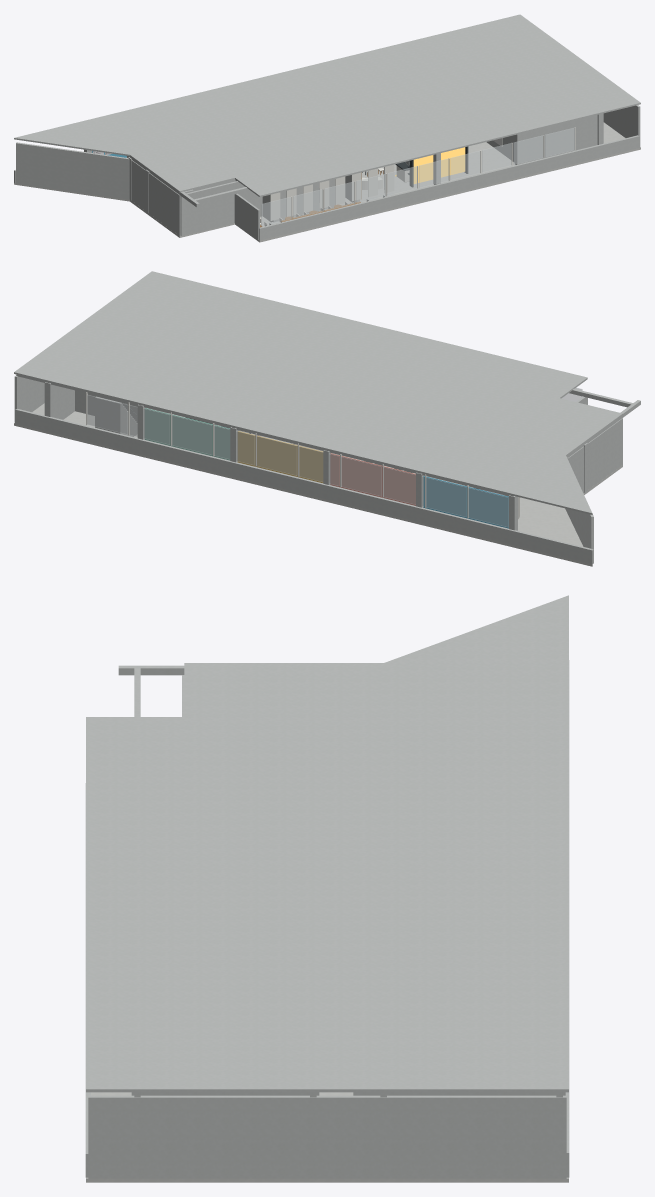
Rendered from museum.glb.
The picture shows the model from 3 angles, top to bottom: view 1: azimuth 30°, elevation 25°; view 2: azimuth 150°, elevation 25°; view 3: azimuth 270°, elevation 25°; orthographic projection. The views are drawn at different scales.
Visible parts, largest first — view 1: CEILING_FullFootprint, WALL_Outer_Bottom, WALL_Outer_Diagonal, FLOOR_OriginalPlan_49_847x20_6m, WALL_RightCoreBottom, WALL_Outer_Step, WALL_Outer_LeftCore, DISPLAY_Cafe_BackPanel, WALL_Outer_Right, WALL_Outer_Step2, WALL_ServiceCore2South, WALL_Window_Bottom.004 (+11 smaller); view 2: CEILING_FullFootprint, WALL_Outer_Top, FLOOR_OriginalPlan_49_847x20_6m, DISPLAY_AB_MintBackdrop, DISPLAY_D_BlueBackdrop, DISPLAY_C_CoralBackdrop, DISPLAY_Reception_Gold, WALL_Outer_LeftCore, WALL_Window_Top.005, WALL_Window_Top.001, WALL_Window_Top.009, WALL_Window_Top (+12 smaller); view 3: CEILING_FullFootprint, WALL_Outer_Right, FLOOR_OriginalPlan_49_847x20_6m.
Boxes of the visible parts, bbox=[...] form: CEILING_FullFootprint: bbox=[14, 14, 640, 196]; WALL_Outer_Bottom: bbox=[259, 135, 639, 240]; WALL_Outer_Diagonal: bbox=[16, 142, 129, 199]; FLOOR_OriginalPlan_49_847x20_6m: bbox=[14, 122, 640, 242]; WALL_RightCoreBottom: bbox=[522, 115, 597, 163]; WALL_Outer_Step: bbox=[180, 181, 235, 235]; WALL_Outer_LeftCore: bbox=[131, 160, 180, 235]; DISPLAY_Cafe_BackPanel: bbox=[413, 147, 465, 183]; WALL_Outer_Right: bbox=[603, 105, 640, 146]; WALL_Outer_Step2: bbox=[234, 193, 259, 240]; WALL_ServiceCore2South: bbox=[279, 179, 335, 219]; WALL_Window_Bottom.004: bbox=[387, 166, 417, 195]; CEILING_FullFootprint: bbox=[14, 271, 622, 514]; WALL_Outer_Top: bbox=[15, 409, 593, 564]; FLOOR_OriginalPlan_49_847x20_6m: bbox=[14, 403, 622, 566]; DISPLAY_AB_MintBackdrop: bbox=[144, 408, 230, 460]; DISPLAY_D_BlueBackdrop: bbox=[423, 476, 508, 528]; DISPLAY_C_CoralBackdrop: bbox=[330, 453, 415, 505]; DISPLAY_Reception_Gold: bbox=[237, 431, 323, 482]; WALL_Outer_LeftCore: bbox=[568, 418, 622, 492]; WALL_Window_Top.005: bbox=[256, 436, 297, 475]; WALL_Window_Top.001: bbox=[426, 477, 466, 516]; WALL_Window_Top.009: bbox=[87, 394, 127, 434]; WALL_Window_Top: bbox=[468, 488, 508, 527]; CEILING_FullFootprint: bbox=[86, 595, 568, 1092]; WALL_Outer_Right: bbox=[88, 1095, 566, 1178]; FLOOR_OriginalPlan_49_847x20_6m: bbox=[86, 1092, 568, 1182].
Size of the model in its own units: 49.85 by 4.4 by 20.62.
56 materials, 39 textured.
